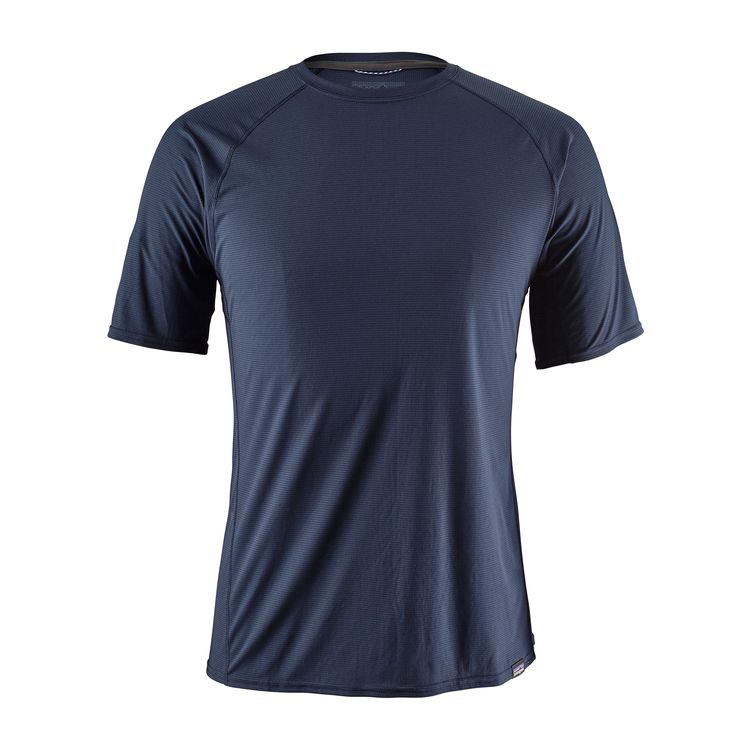T-Shirt: (97, 40, 656, 703)
